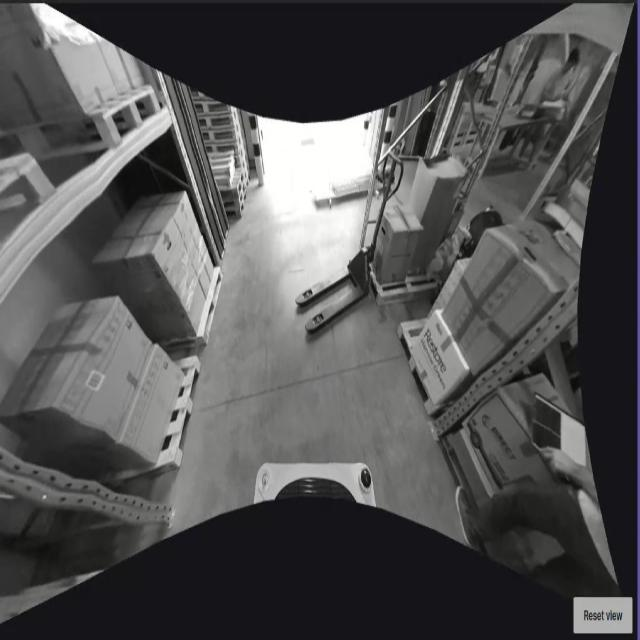Pallets-and-forklifts: (34, 77, 167, 173), (154, 355, 204, 474), (390, 316, 442, 420), (195, 259, 228, 349)
forlift: (291, 143, 406, 341)
